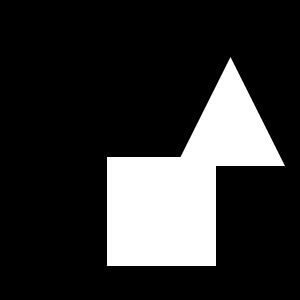circle: (107, 157, 216, 266)
triangle: (176, 57, 285, 166)
